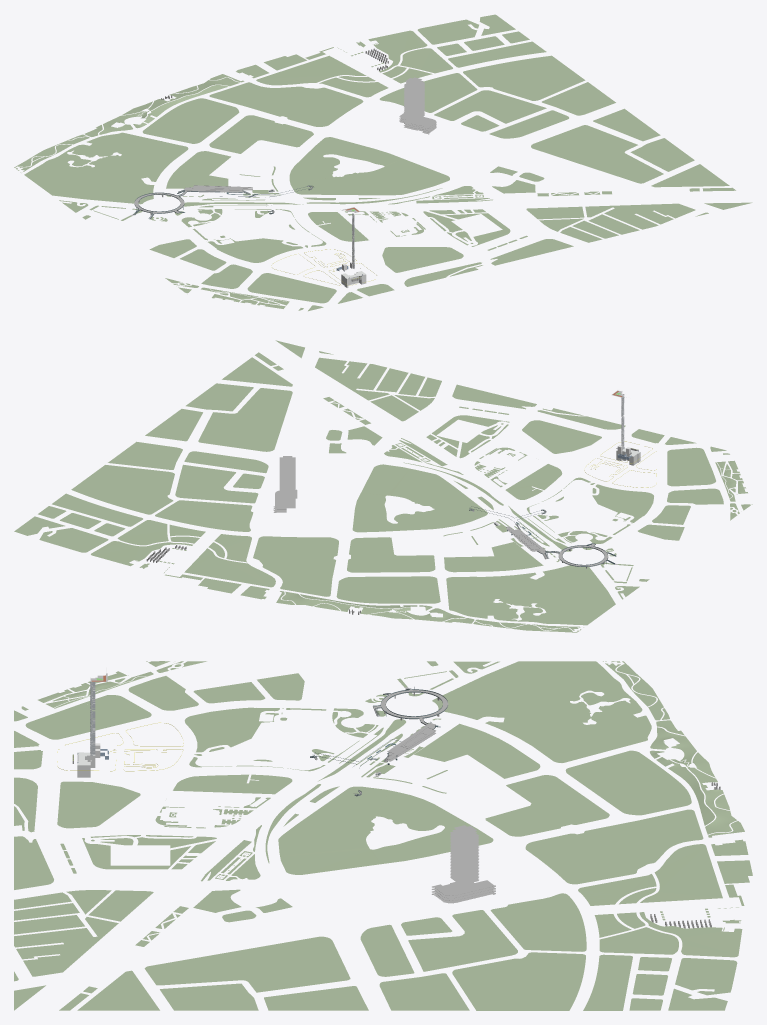
Rendered from lujiazui-23.glb.
3 views of the same model, one above another, from view 1: azimuth 30°, elevation 25°; view 2: azimuth 150°, elevation 25°; view 3: azimuth 270°, elevation 25° (orthographic). The views are drawn at different scales.
Visible parts, largest first — view 1: source_3121_Mat3d66-1303573-2055-5153_part0, source_3120_Mat3d66-1303573-2153-4388_part0, source_3029_Mat3d66-1303573-289-6904_part0, source_3030_Mat3d66-1303573-306-9553_part0; view 2: source_3121_Mat3d66-1303573-2055-5153_part0, source_3120_Mat3d66-1303573-2153-4388_part0, source_3029_Mat3d66-1303573-289-6904_part0; view 3: source_3121_Mat3d66-1303573-2055-5153_part0, source_3120_Mat3d66-1303573-2153-4388_part0, source_3029_Mat3d66-1303573-289-6904_part0, source_3030_Mat3d66-1303573-306-9553_part0.
Boxes of the visible parts, <box> form: source_3121_Mat3d66-1303573-2055-5153_part0: <box>14,14,752,311</box>; source_3120_Mat3d66-1303573-2153-4388_part0: <box>399,77,436,134</box>; source_3029_Mat3d66-1303573-289-6904_part0: <box>134,185,312,219</box>; source_3030_Mat3d66-1303573-306-9553_part0: <box>133,185,313,218</box>; source_3121_Mat3d66-1303573-2055-5153_part0: <box>14,340,752,632</box>; source_3120_Mat3d66-1303573-2153-4388_part0: <box>273,456,297,512</box>; source_3029_Mat3d66-1303573-289-6904_part0: <box>469,507,608,568</box>; source_3121_Mat3d66-1303573-2055-5153_part0: <box>14,661,752,1010</box>; source_3120_Mat3d66-1303573-2153-4388_part0: <box>431,825,495,903</box>; source_3029_Mat3d66-1303573-289-6904_part0: <box>310,689,448,795</box>; source_3030_Mat3d66-1303573-306-9553_part0: <box>310,687,447,796</box>.
Size of the model in its own units: 1500 by 210 by 1341.
